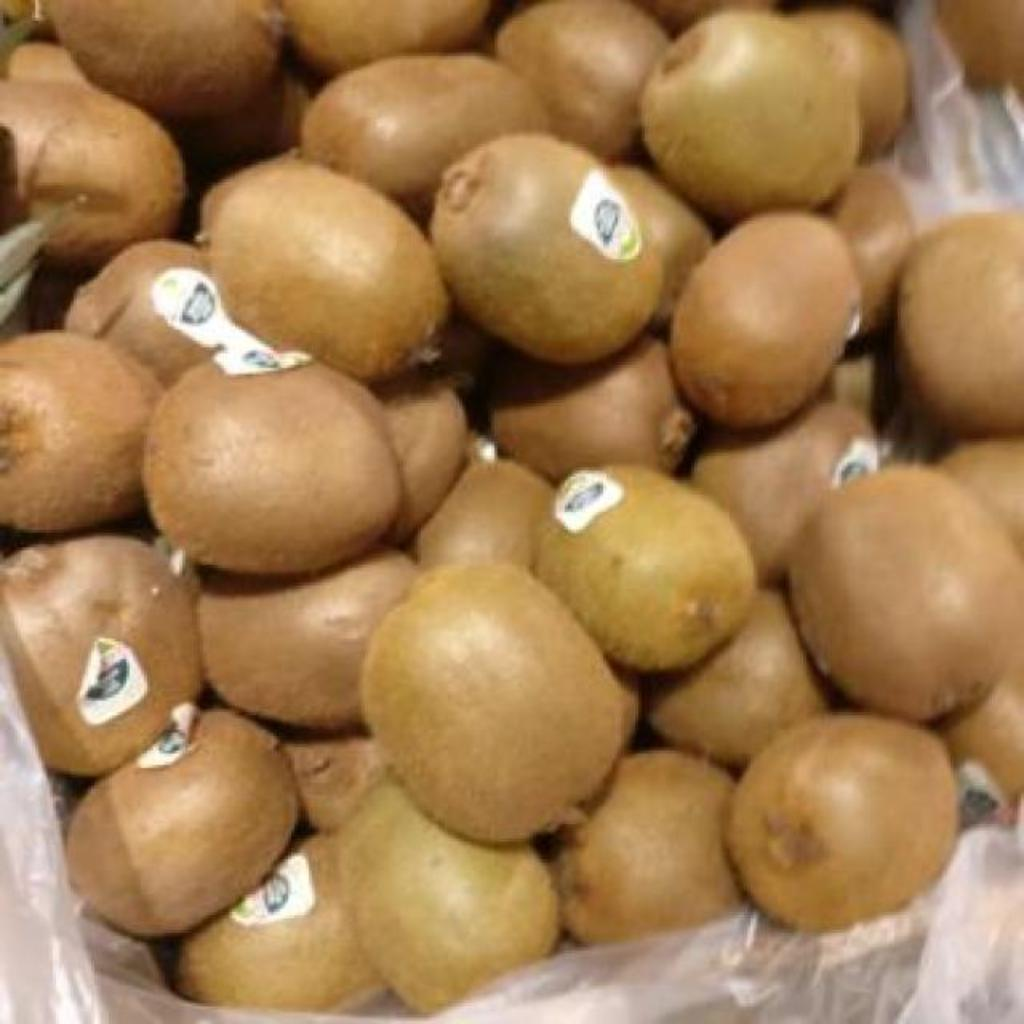kiwi: (362, 566, 634, 843), (670, 212, 872, 579), (792, 466, 1024, 719), (202, 156, 448, 379), (144, 362, 400, 573), (430, 134, 656, 363), (336, 778, 558, 1011), (68, 710, 296, 935), (726, 714, 954, 929), (0, 536, 202, 775), (640, 12, 860, 221), (536, 472, 756, 671), (303, 58, 548, 221), (198, 550, 418, 729), (64, 240, 312, 383), (174, 836, 378, 1009), (1, 80, 186, 267), (564, 750, 740, 942), (650, 590, 826, 767), (0, 332, 154, 531), (492, 336, 694, 481), (898, 212, 1024, 434), (48, 1, 280, 117), (496, 0, 666, 157), (795, 10, 908, 157), (374, 372, 470, 541), (612, 166, 712, 321), (283, 0, 490, 73), (416, 460, 554, 566), (832, 164, 914, 329), (944, 654, 1024, 799), (282, 738, 386, 831), (942, 439, 1024, 553)
